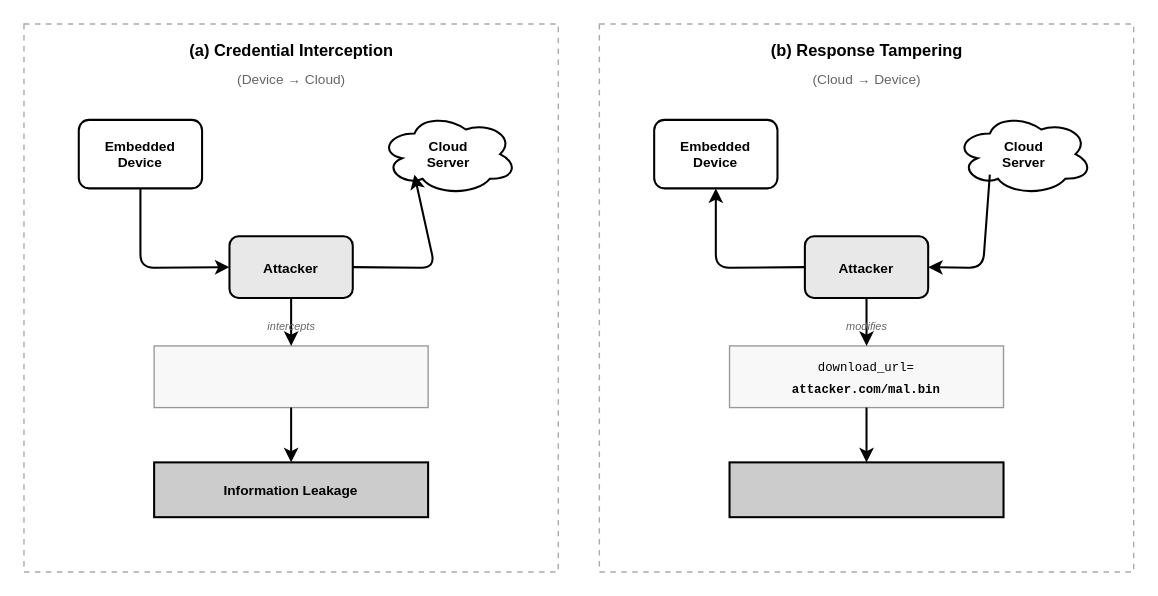
This 1158x596 diagram has some shape labels left out. Here are the shapes that lost their labels. From the top down, the box of each, then its label:
(153, 345, 428, 408): username= admin password= secret
(728, 461, 1004, 518): Code/Command Execution
